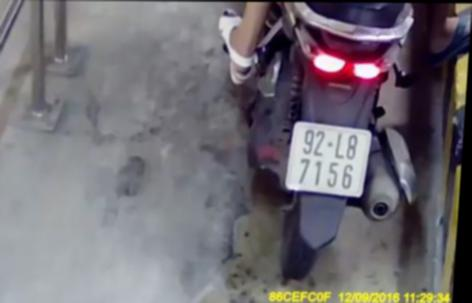License_Plate: (276, 115, 379, 205)
